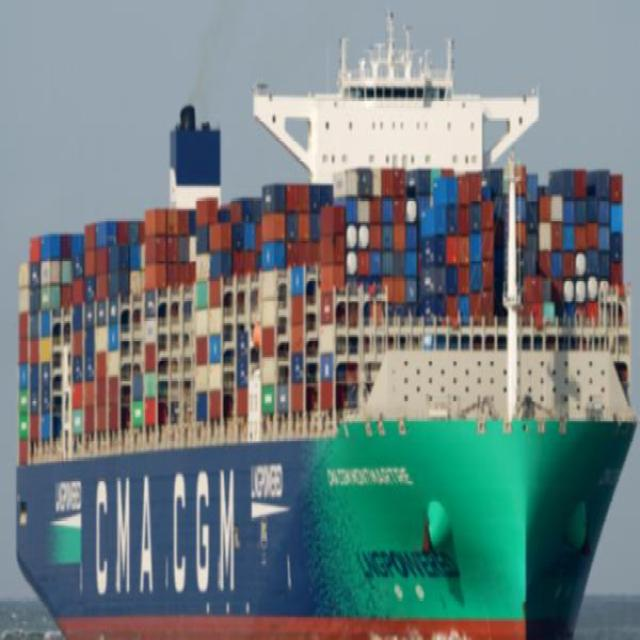Container Ship: (9, 7, 634, 640)
